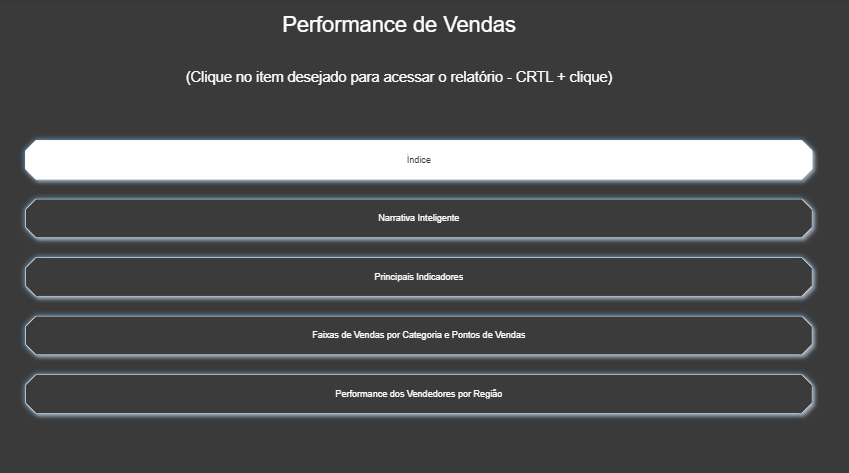

The page's visual inventory and layout, read from the dashboard file:
{"tool":"powerbi","page":{"name":"Índice","canvas":[1280,720],"ordinal":0},"visuals":[{"type":"pageNavigator","box":[51.4,199.8,1175.5,421.7],"z":0},{"type":"textbox","box":[51.4,16.2,1116.7,63.2],"z":1},{"type":"textbox","box":[51.4,99.9,1116.7,36.7],"z":2}]}

Visuals, with their boxes in screenshot pixels (x1, y1, x2, y2), scaled from the page's 1280x720 canvas onto the 849x473 screenshot:
pageNavigator: pyautogui.locateOnScreen(34, 131, 814, 408)
textbox: pyautogui.locateOnScreen(34, 11, 775, 52)
textbox: pyautogui.locateOnScreen(34, 66, 775, 90)
